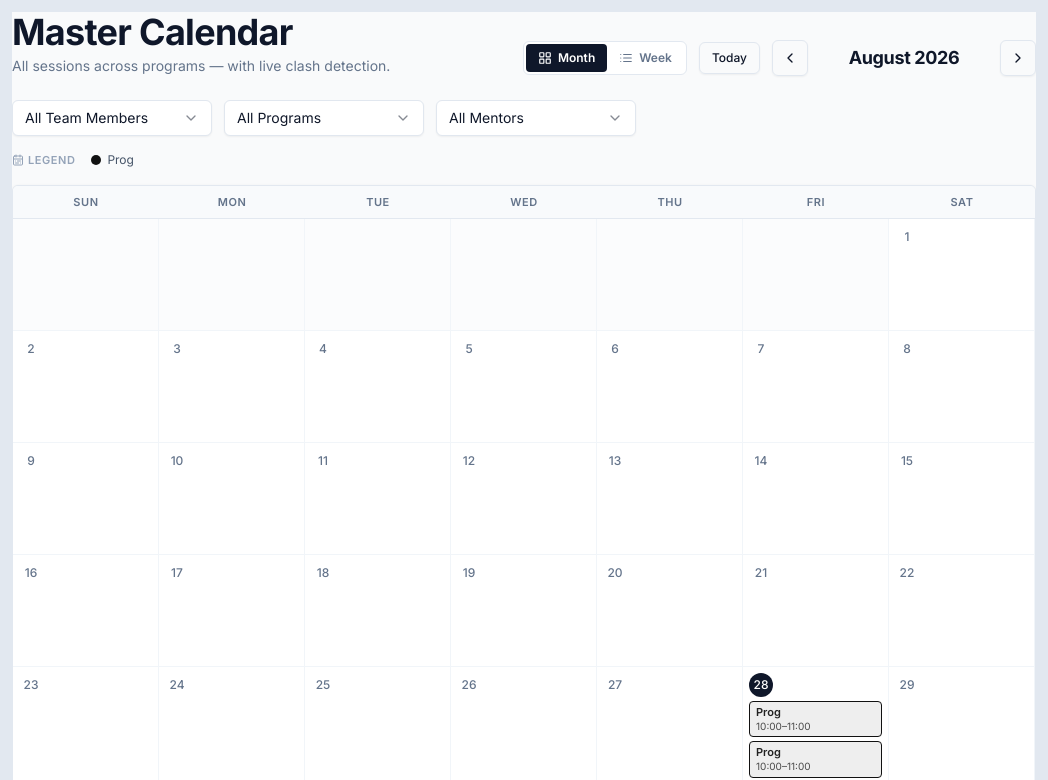
Test: CalendarPage › filtering by mentor hides non-matching sessions
Check: the number of buttons with test id "cal-session-block" is 2, box [749,701,882,737]; [749,741,882,778]
Click the dropdown with test id "filter-mentor". click: (536, 118)
box: [436,100,636,136]
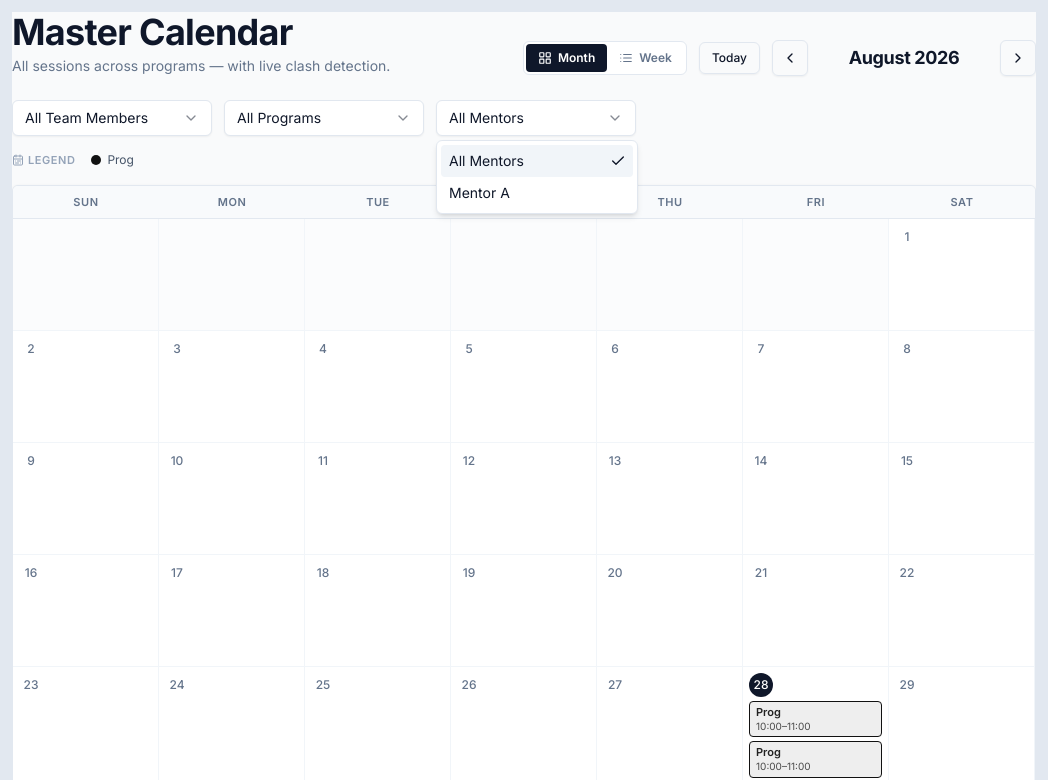
Click the option "Mentor A". click: (479, 192)
box: [449,184,510,201]
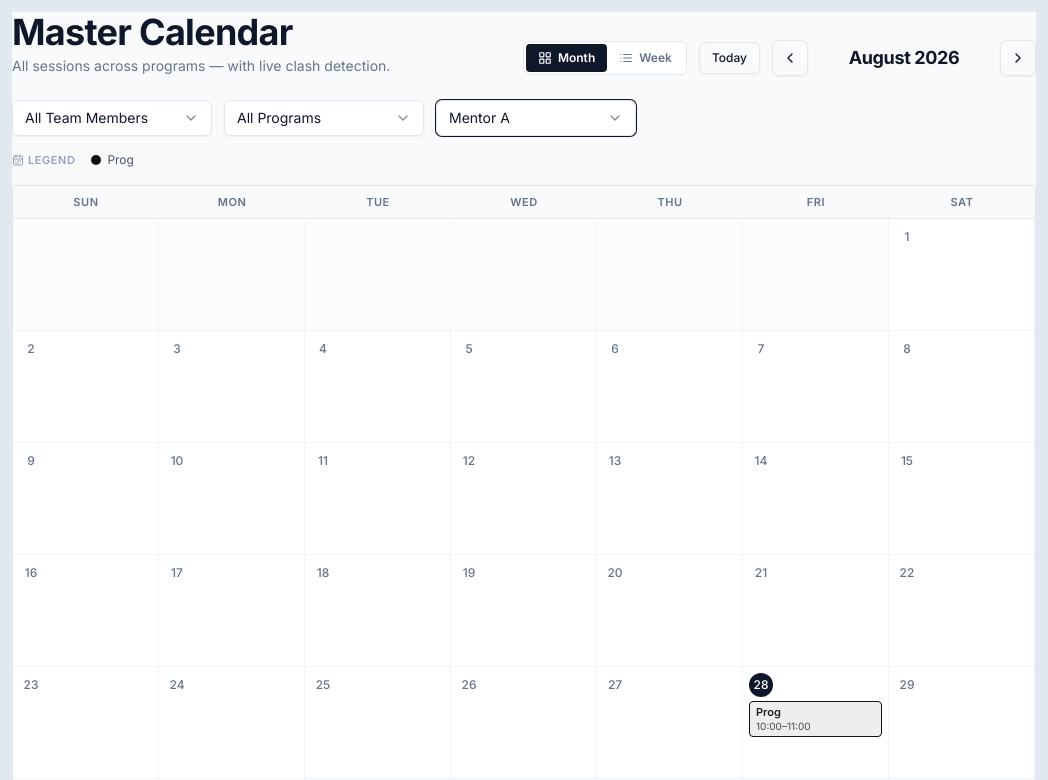
Check: the number of buttons with test id "cal-session-block" is 1, box [749,701,882,737]
